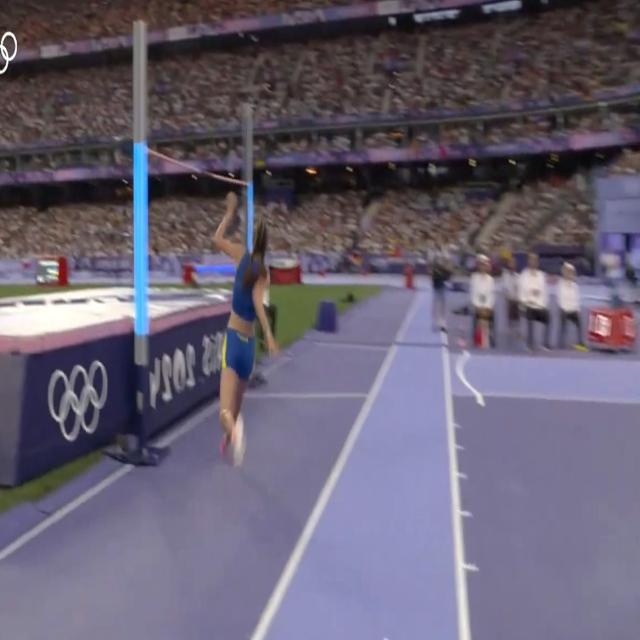run: (209, 188, 279, 465)
